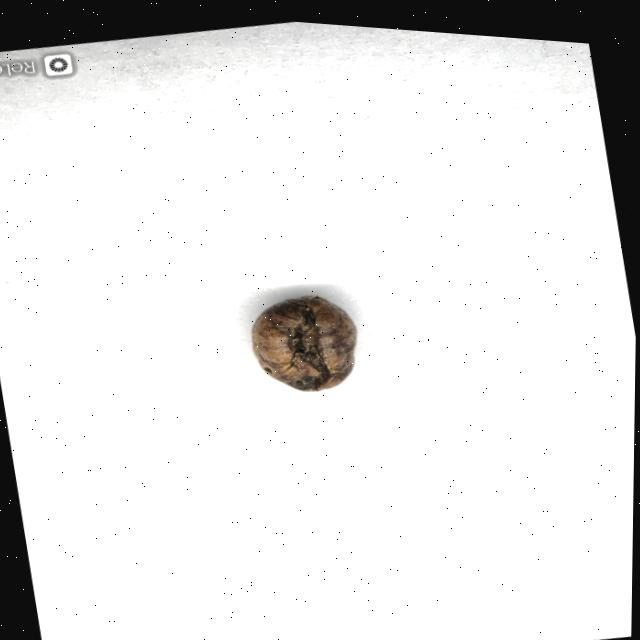Insect damage: (245, 284, 368, 394)
